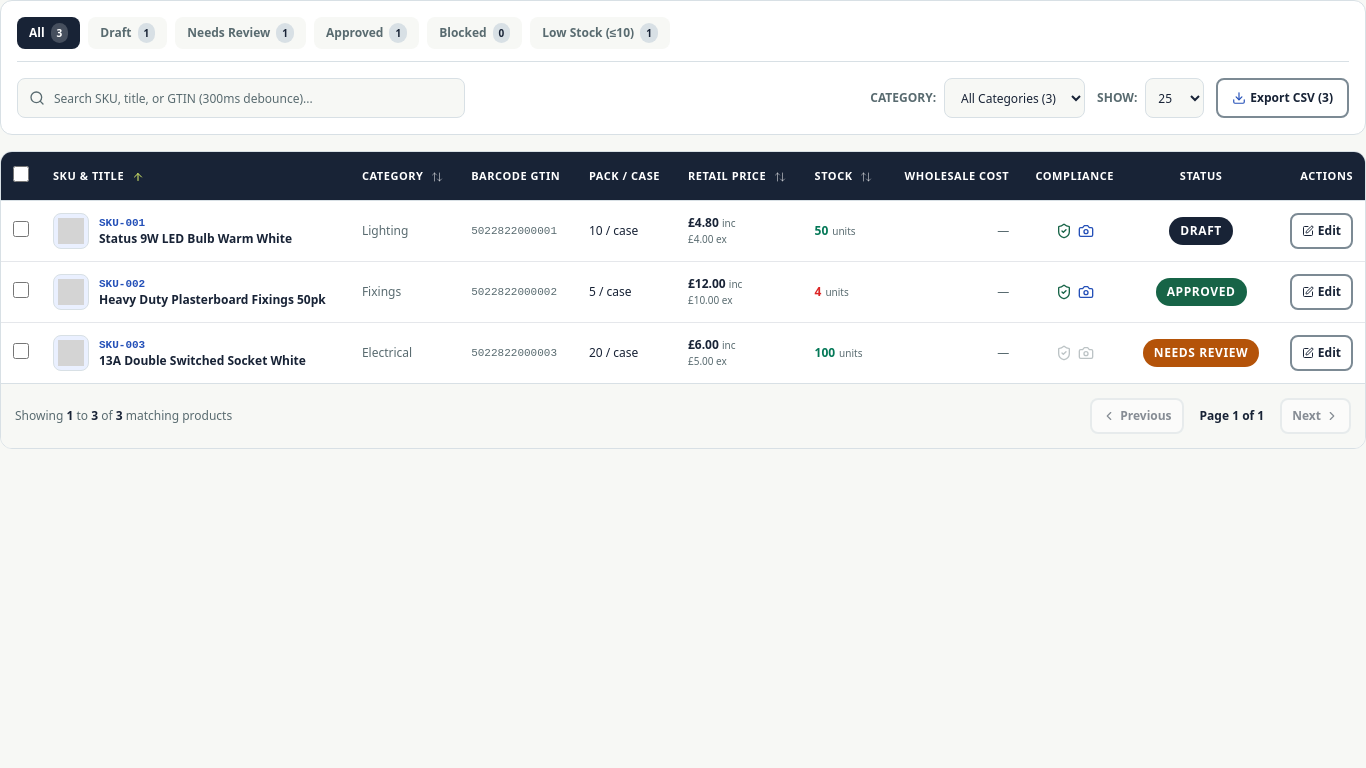
Test: Milestone M2: High-Reliability Data Tables & Bulk Actions › 4. ProductTable Integration with Bulk Operations › selects multiple rows and sends batch status update
Note: Select first row checkbox
Click the checkbox named "select product sku-001" at {"x": 21, "y": 229}, box 13,221 -> 29,237
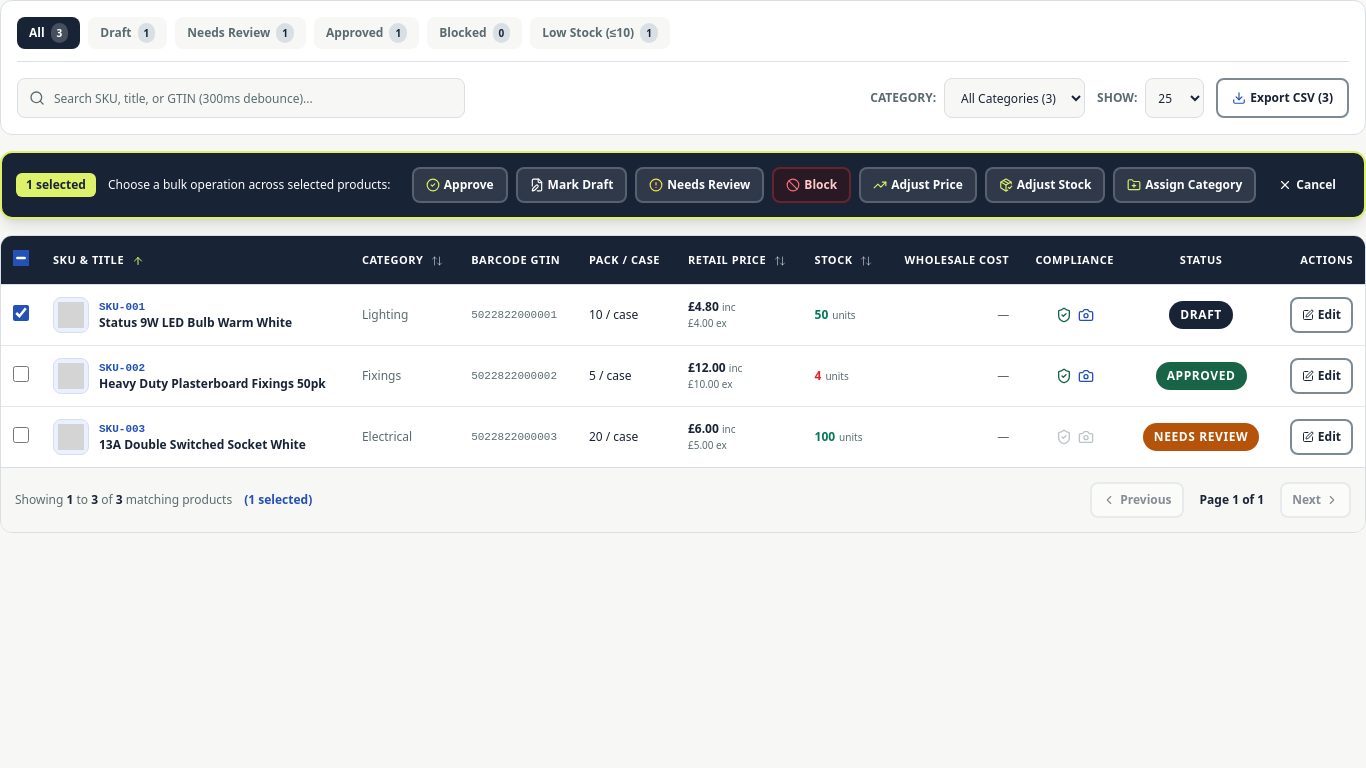
Note: Select second row checkbox
Click the checkbox named "select product sku-002" at {"x": 21, "y": 374}, box 13,366 -> 29,382
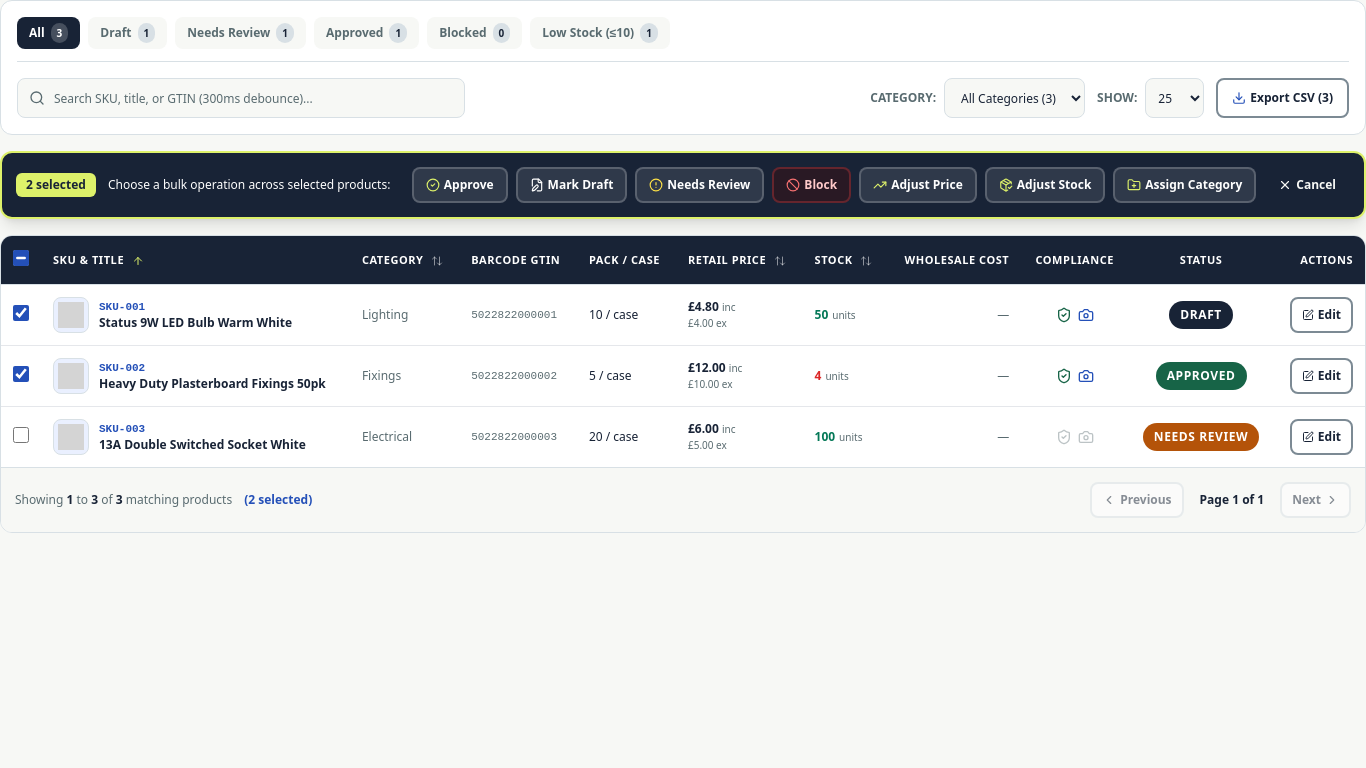
Expected: the text "2 selected" is shown, 16,173 -> 96,197
Note: Click Approve in bulk bar
Click the button "Approve" at {"x": 460, "y": 185}, box 412,167 -> 508,203
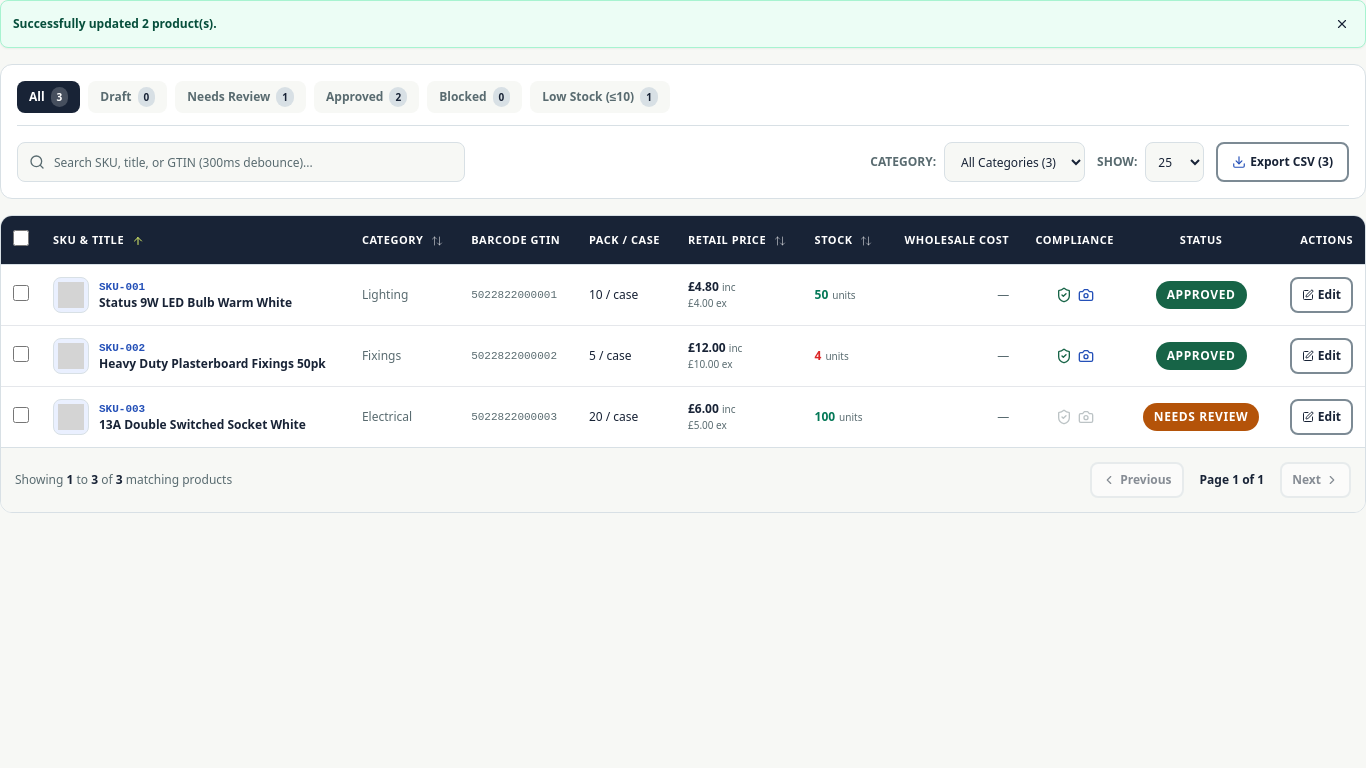
Expected: the text "Successfully updated 2 product(s)." is shown, 13,16 -> 217,32
